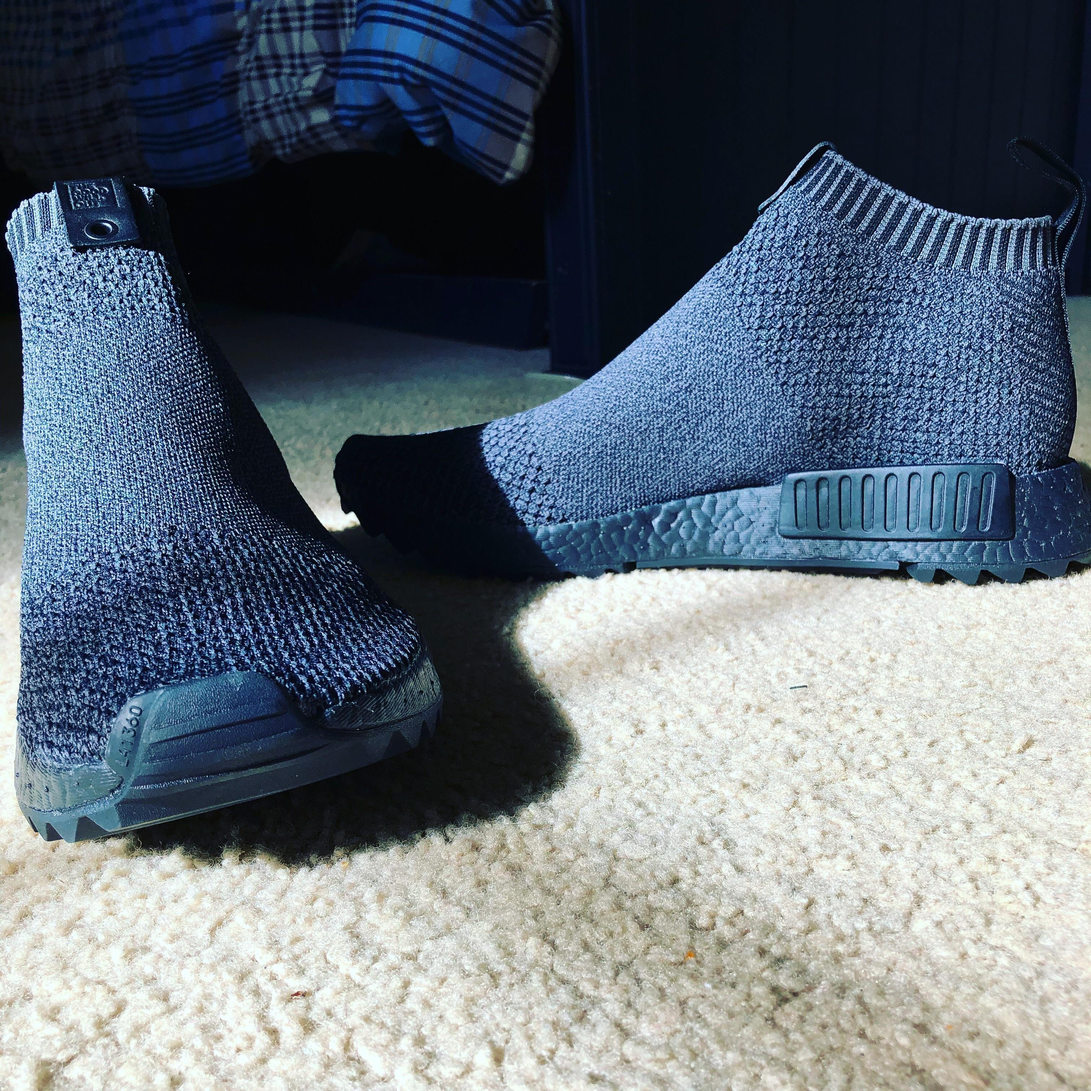sneaker: (275, 119, 1091, 624), (0, 177, 408, 924)
